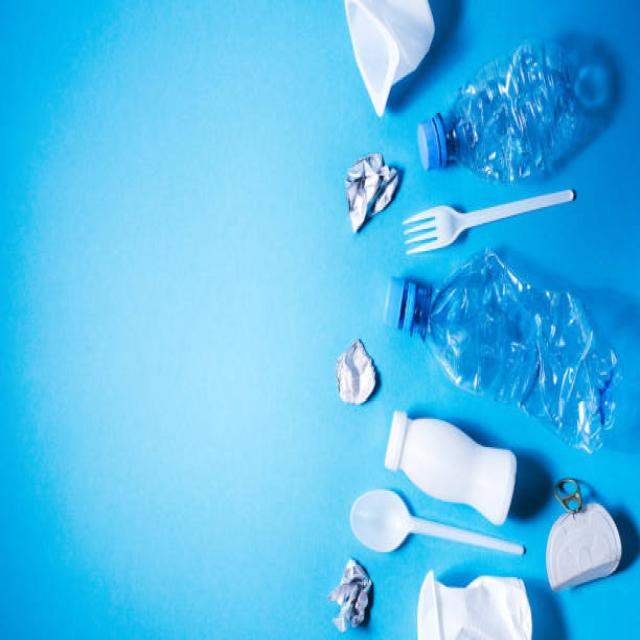paper: (345, 144, 404, 240), (335, 345, 386, 403)
plastic: (402, 19, 621, 616)
